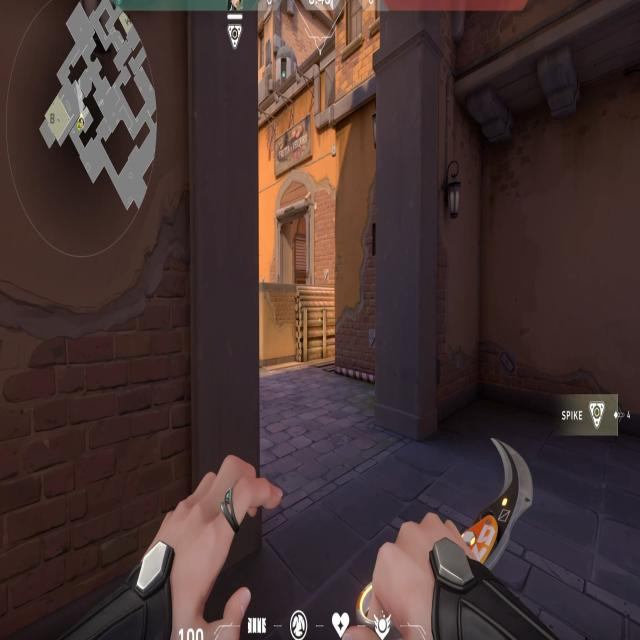B_Cubby: (262, 267, 340, 379)
